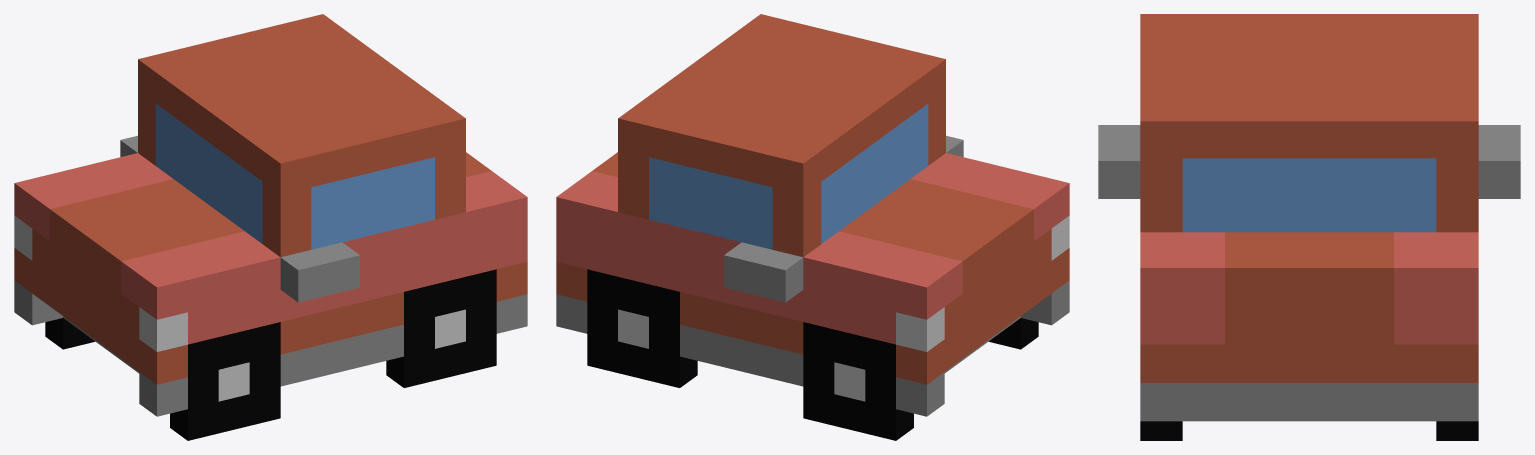
File: Car_Small.fbx
3 renders of one model, left to right at view 1: azimuth 30°, elevation 25°; view 2: azimuth 150°, elevation 25°; view 3: azimuth 270°, elevation 25°, orthographic. The views are drawn at different scales.
Visible parts, largest first — view 1: Car_Small; view 2: Car_Small; view 3: Car_Small.
Part boxes in pixels (x1=…): Car_Small: x1=14, y1=14, x2=527, y2=440; Car_Small: x1=556, y1=14, x2=1069, y2=440; Car_Small: x1=1098, y1=14, x2=1520, y2=440.
Bounding box in the file's own units: 9 × 5.91 × 7.49.
